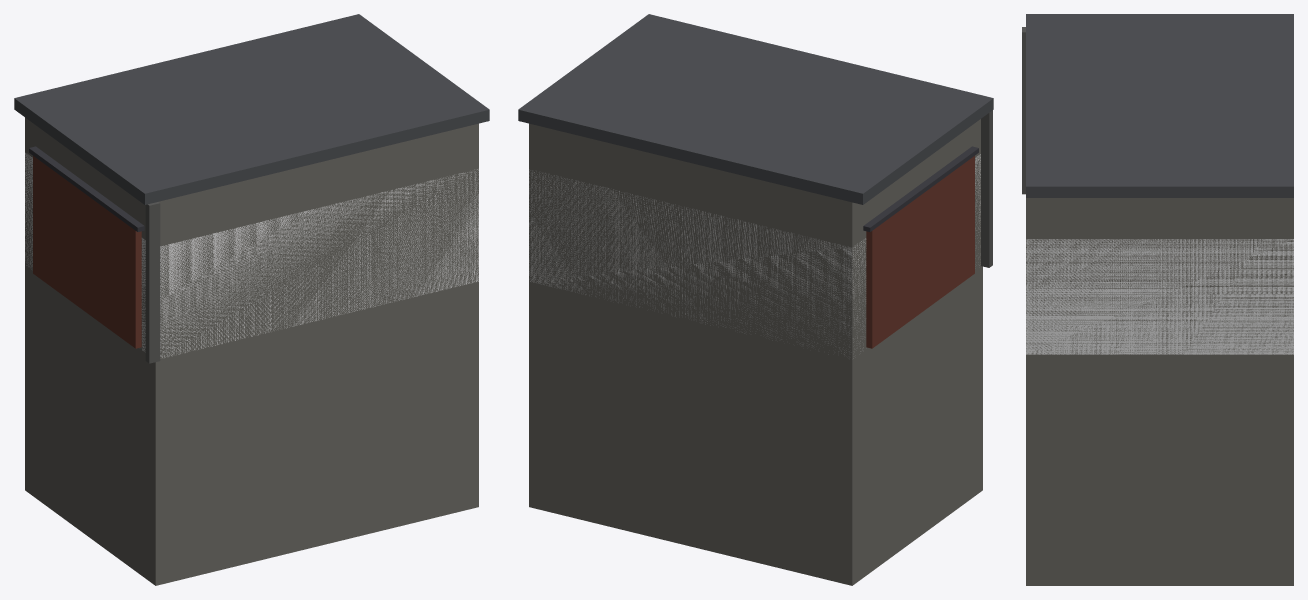
The model's file is garage.glb.
3 renders of one model, left to right at view 1: azimuth 30°, elevation 25°; view 2: azimuth 150°, elevation 25°; view 3: azimuth 270°, elevation 25°, orthographic. The views are drawn at different scales.
Visible parts, largest first — view 1: 00_#6e6c66, 01_#4c4e52, solid, 02_paint0, 04_#5a5a58, 03_#3a3a40; view 2: 00_#6e6c66, 01_#4c4e52, solid, 02_paint0, 04_#5a5a58, 03_#3a3a40; view 3: 00_#6e6c66, 01_#4c4e52, solid, 04_#5a5a58.
Boxes of the visible parts, box(x1,y1,x2,y2) form: 00_#6e6c66: box(25, 117, 478, 585); 01_#4c4e52: box(14, 14, 489, 204); solid: box(25, 152, 478, 357); 02_paint0: box(33, 156, 141, 348); 04_#5a5a58: box(145, 202, 160, 363); 03_#3a3a40: box(29, 146, 144, 231); 00_#6e6c66: box(529, 119, 982, 585); 01_#4c4e52: box(518, 14, 993, 204); solid: box(529, 154, 980, 358); 02_paint0: box(866, 156, 974, 348); 04_#5a5a58: box(981, 110, 992, 267); 03_#3a3a40: box(863, 146, 978, 231); 00_#6e6c66: box(1026, 198, 1293, 585); 01_#4c4e52: box(1026, 14, 1293, 197); solid: box(1026, 239, 1293, 354); 04_#5a5a58: box(1022, 27, 1025, 194).
Size of the model in its own units: 6.4 by 7 by 4.26.
